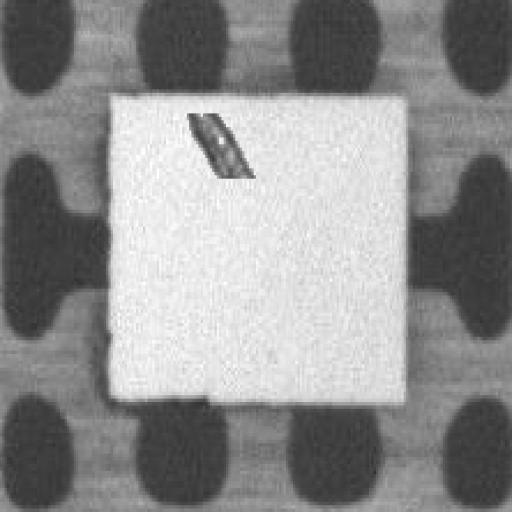DIE_INK: (258, 74, 419, 118)
